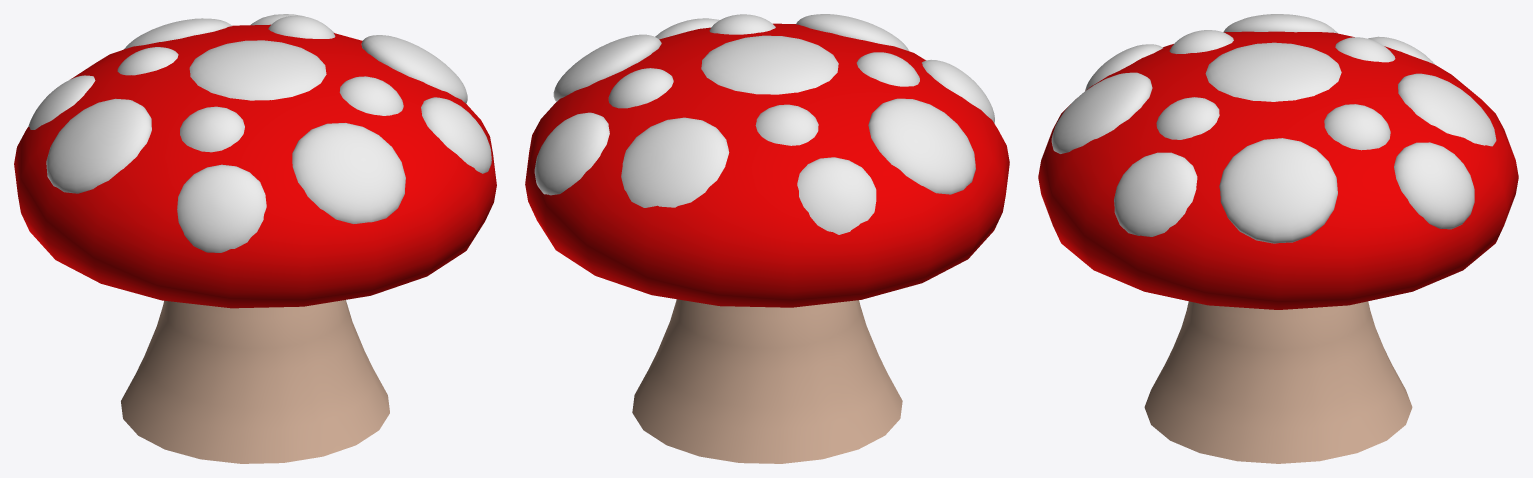
Rendered from Hongos (Solo).fbx.
The picture shows the model from 3 angles, left to right: view 1: azimuth 30°, elevation 25°; view 2: azimuth 150°, elevation 25°; view 3: azimuth 270°, elevation 25°; orthographic projection.
Visible parts, largest first — view 1: Hongo; view 2: Hongo; view 3: Hongo.
Boxes of the visible parts, left/top/right/bottom form: Hongo: left=14, top=14, right=496, bottom=463; Hongo: left=525, top=14, right=1009, bottom=463; Hongo: left=1038, top=14, right=1518, bottom=463.
Bounding box in the file's own units: 4 × 3.2 × 4.
